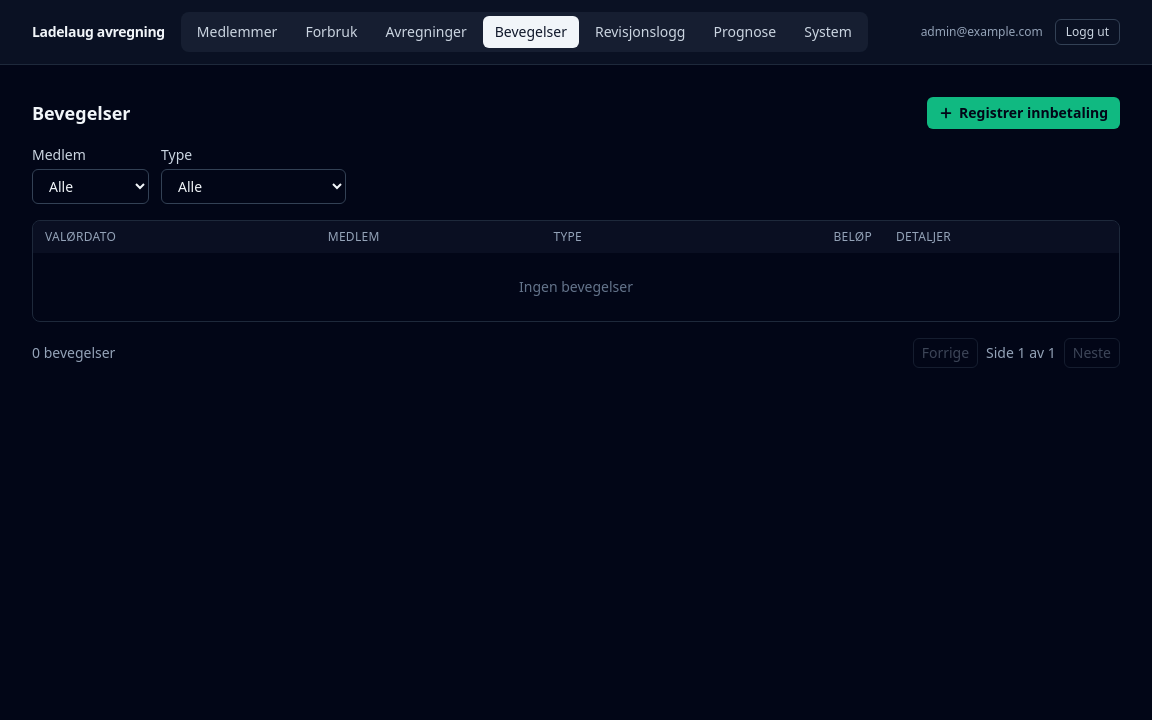
Test case: Movements (admin) › records a payment via the quick action and shows the new row
Click the button "Registrer innbetaling".
click(1024, 113)  # box [927,97,1120,129]
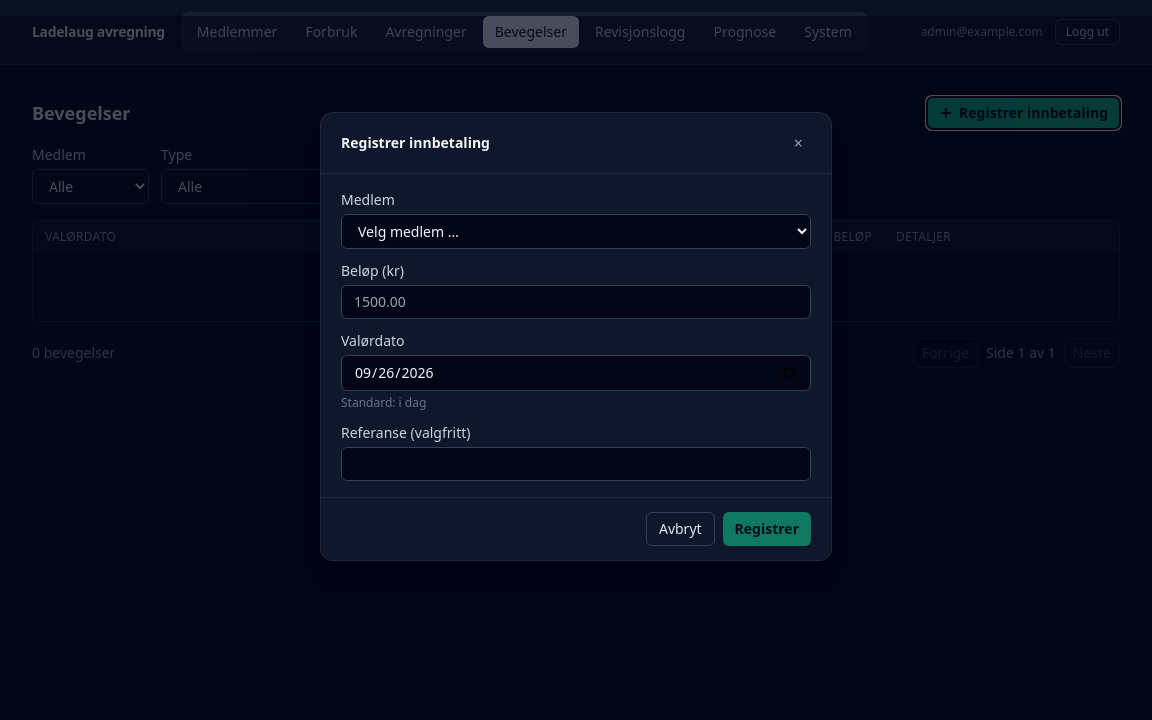
Select "M-9 – Nina" in the dropdown labelled "Medlem" at (576, 232), box [341,214,811,249]
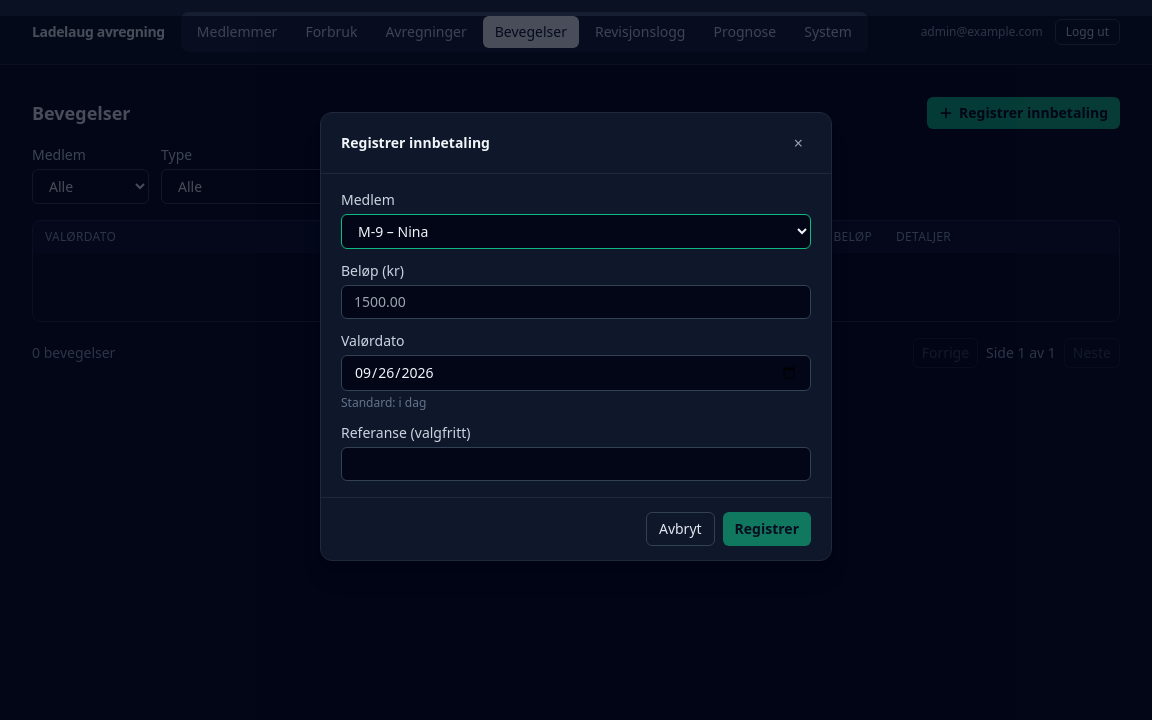
Type "500" into the field labelled "Beløp (kr)".
click(576, 302); type("500")  # box [341,285,811,319]
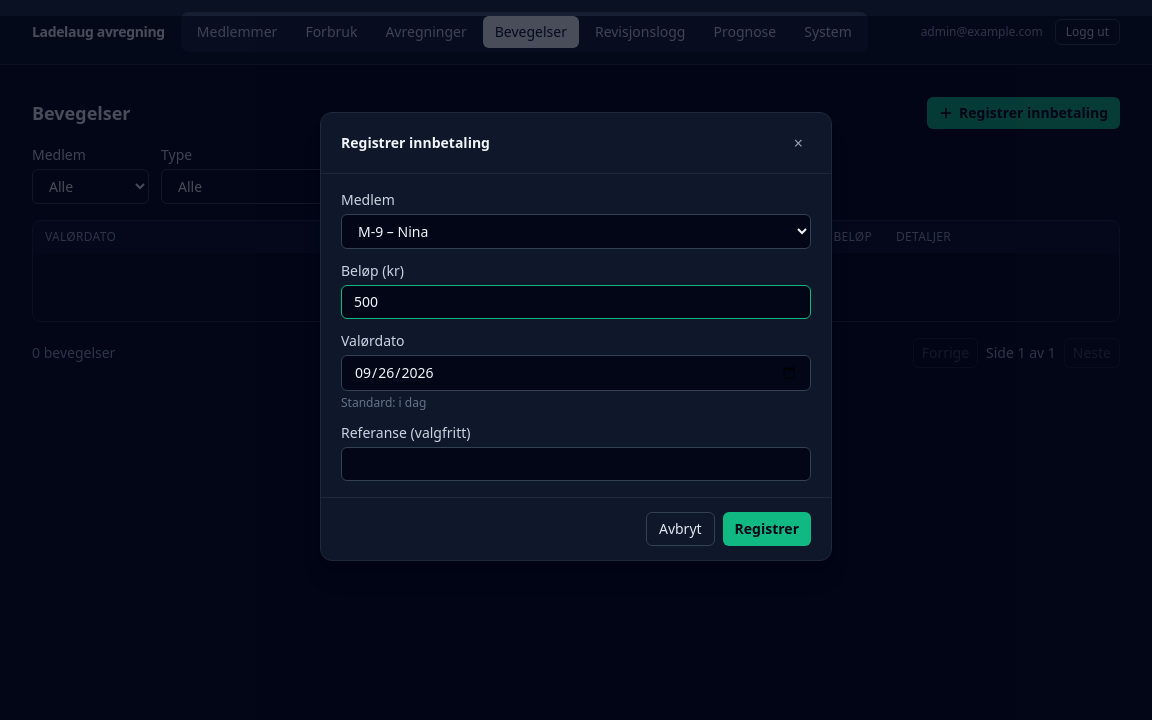
Click the button "Registrer".
click(767, 529)  # box [723,512,811,546]
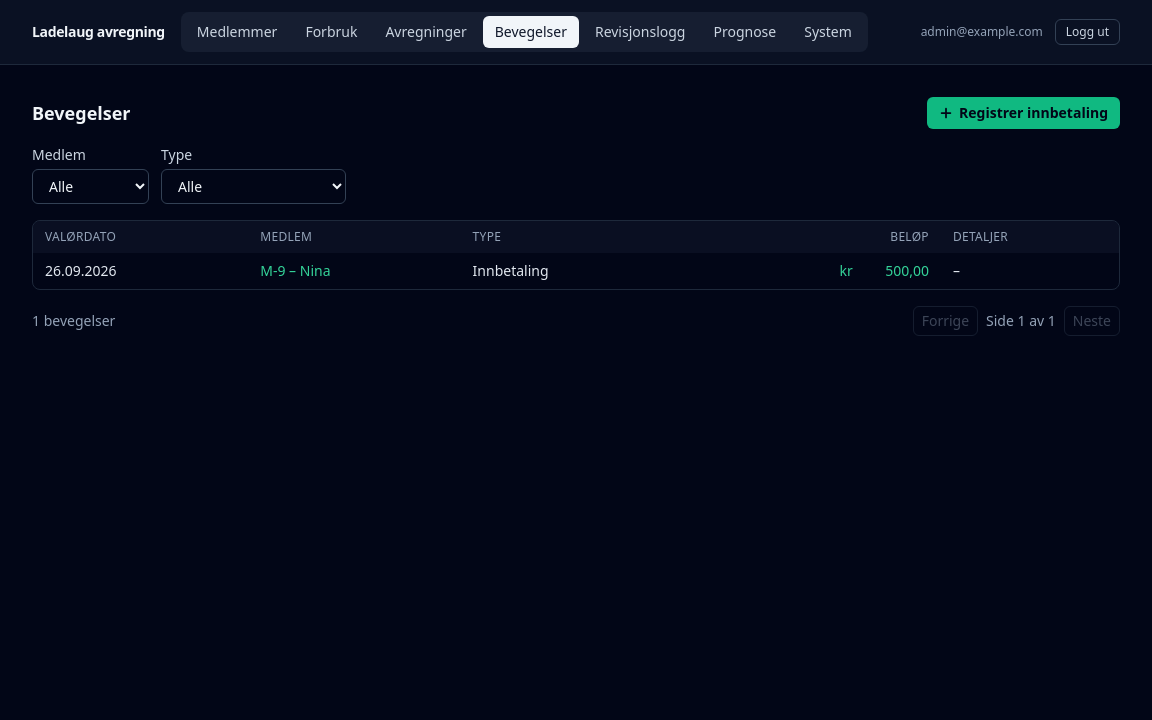
Result: the link "M-9 – Nina" is shown at [260,261,331,280]
Result: the text "500,00" is shown at [885,261,929,280]
